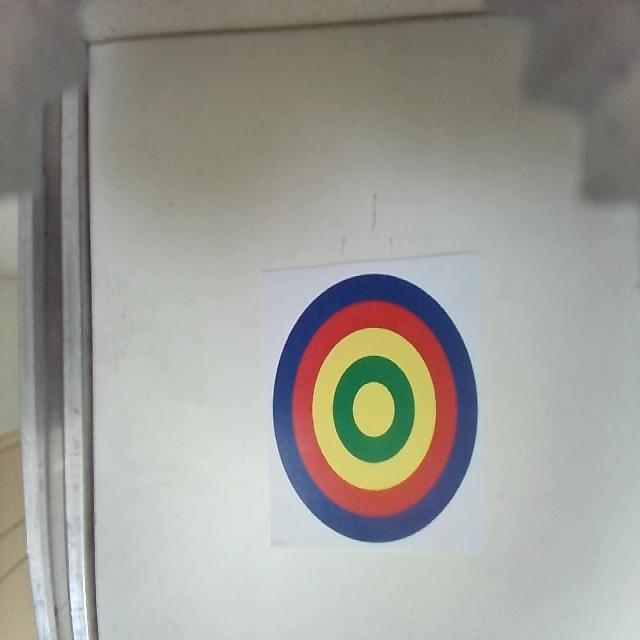cogn: (271, 271, 478, 543)
